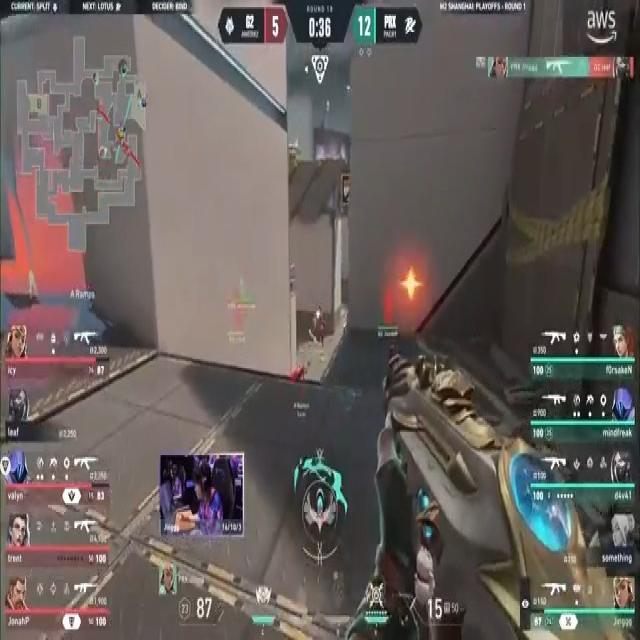enemy: (310, 301, 330, 346)
